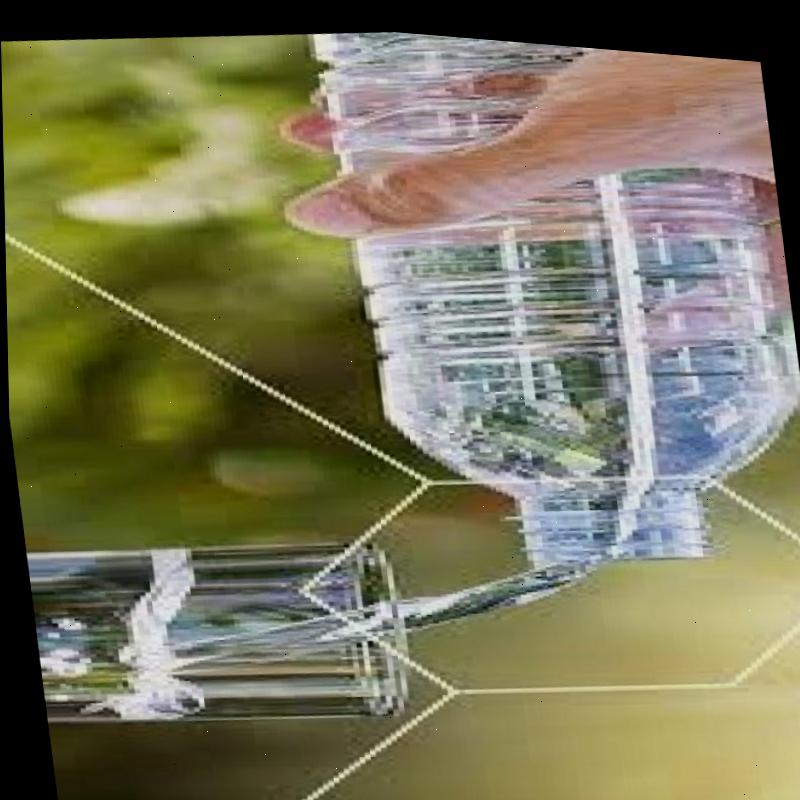botella: (307, 20, 800, 586)
